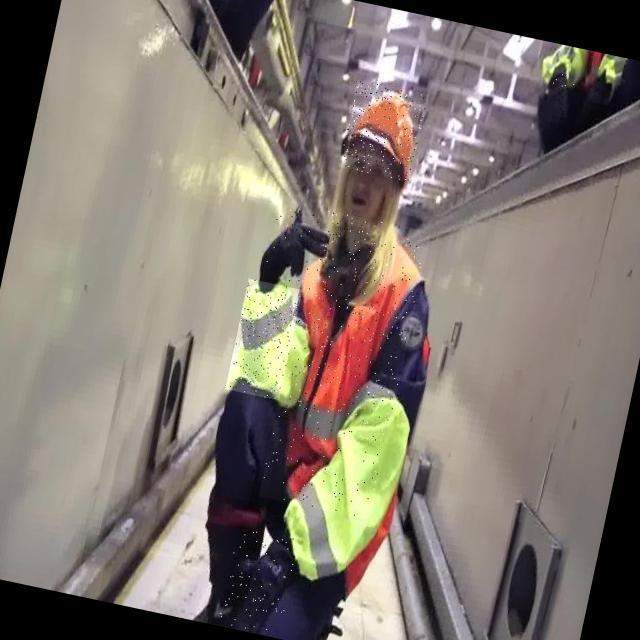Gloves: (249, 209, 340, 298)
Helmet: (339, 80, 428, 182)
Person: (140, 44, 455, 640)
Safety Boot: (183, 504, 279, 631)
Safety Vest: (225, 209, 431, 520), (285, 381, 416, 579), (233, 269, 310, 409)
